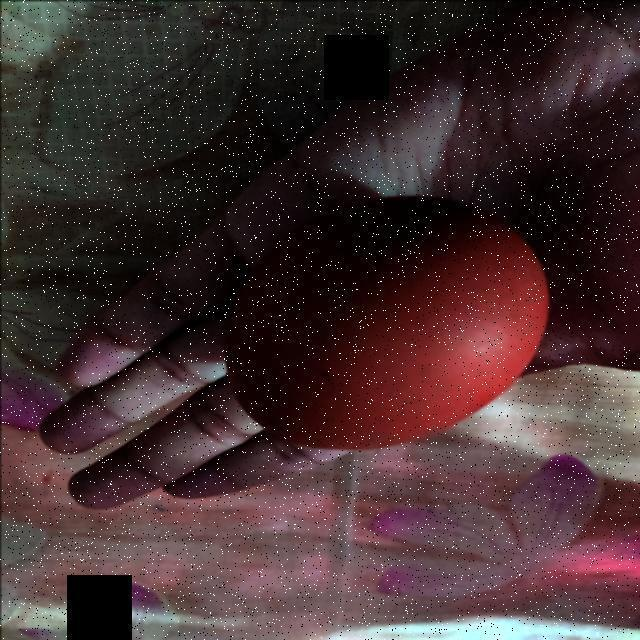egg: (218, 196, 552, 458)
